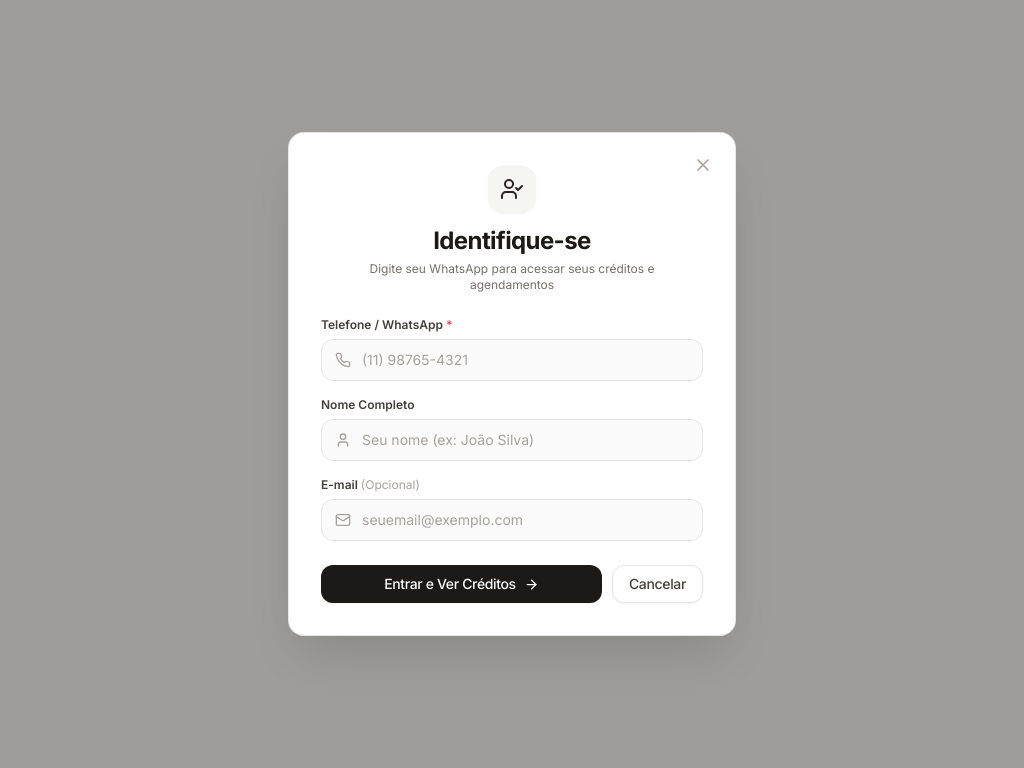
Test: CustomerLoginModal Component › validates empty phone number before submission
Click the button "Entrar e Ver Créditos" at (462, 584), box [321, 565, 602, 603]
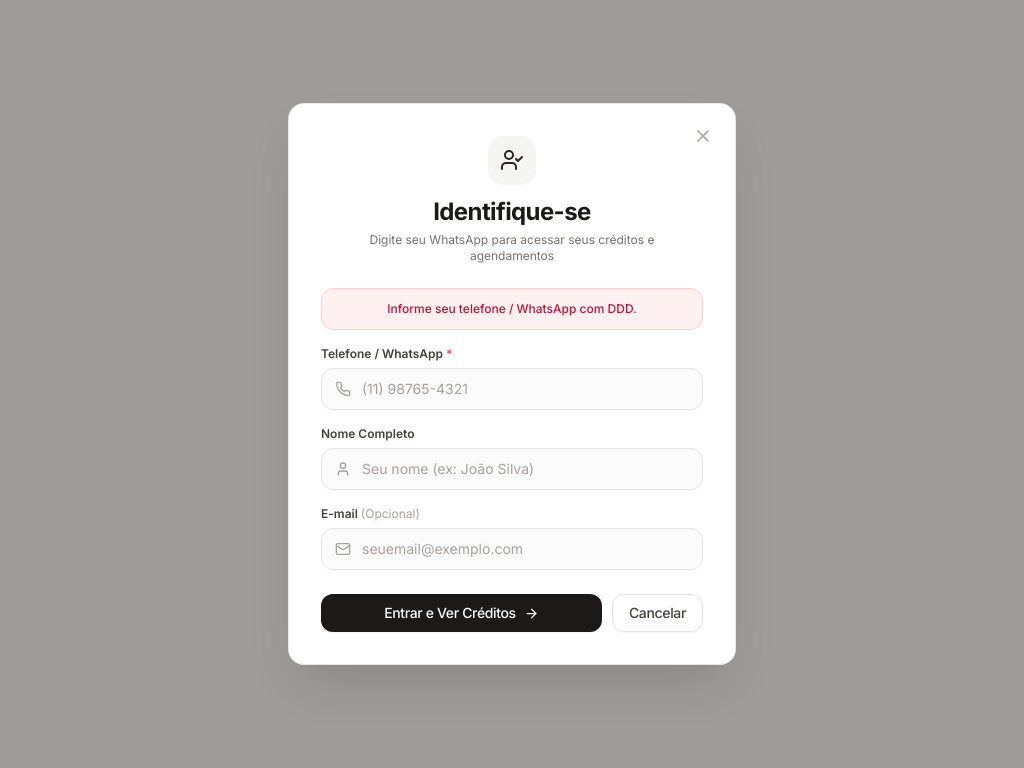
Result: the message shows "Informe seu telefone" at [387, 301, 637, 316]
